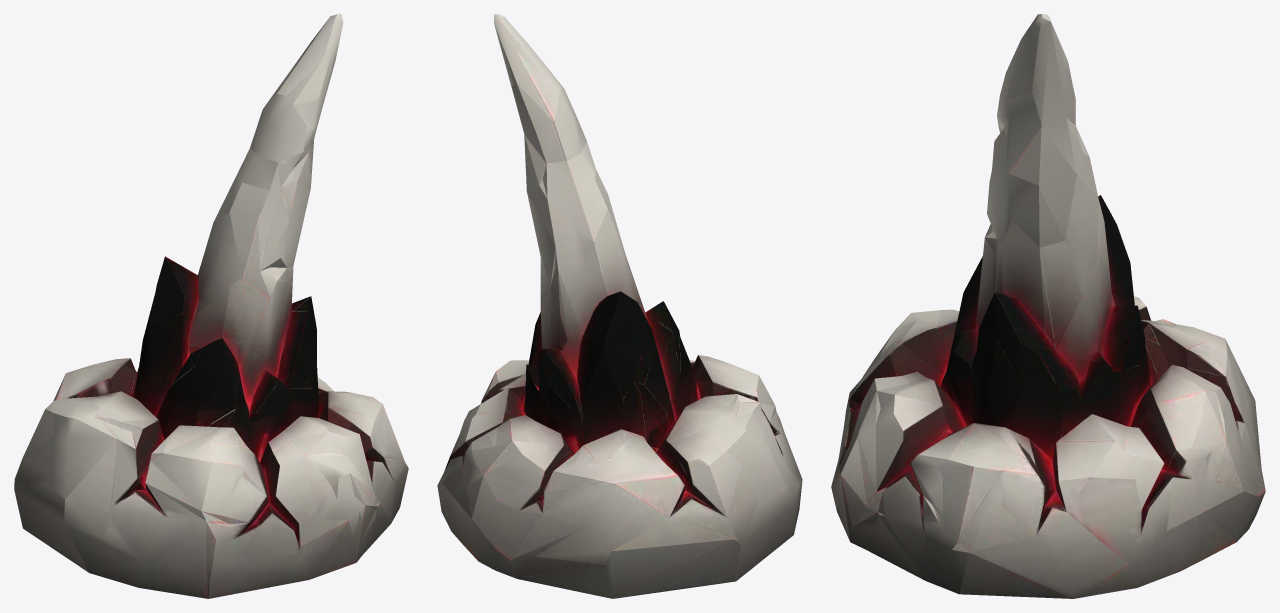
File: thorn.glb
The picture shows the model from 3 angles, left to right: view 1: azimuth 30°, elevation 25°; view 2: azimuth 150°, elevation 25°; view 3: azimuth 270°, elevation 25°; orthographic projection. The views are drawn at different scales.
Parts seen in each view (by area): view 1: mesh_node; view 2: mesh_node; view 3: mesh_node.
Part boxes in pixels (x1=…): mesh_node: x1=14, y1=14, x2=408, y2=598; mesh_node: x1=437, y1=14, x2=802, y2=598; mesh_node: x1=831, y1=14, x2=1265, y2=598.
Bounding box in the file's own units: 1.35 × 1.9 × 1.33.
Materials: 1 (1 with a texture image).
